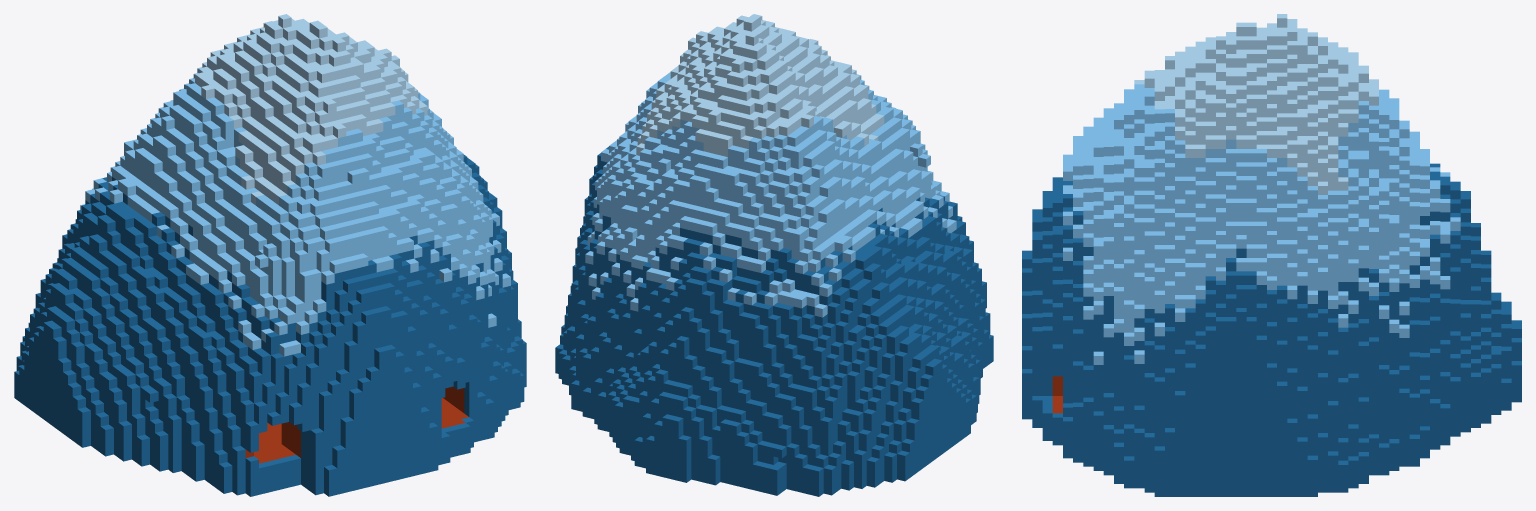
The model's file is mountain.obj.
3 renders of one model, left to right at view 1: azimuth 30°, elevation 25°; view 2: azimuth 150°, elevation 25°; view 3: azimuth 270°, elevation 25°, orthographic. The views are drawn at different scales.
Parts seen in each view (by area): view 1: mountain; view 2: mountain; view 3: mountain.
Boxes of the visible parts, x1,y1,x2,y2 form: mountain: [14, 14, 526, 496]; mountain: [555, 14, 993, 496]; mountain: [1022, 14, 1521, 496].
Size of the model in its own units: 47 by 42 by 49.
1 material, 1 textured.
